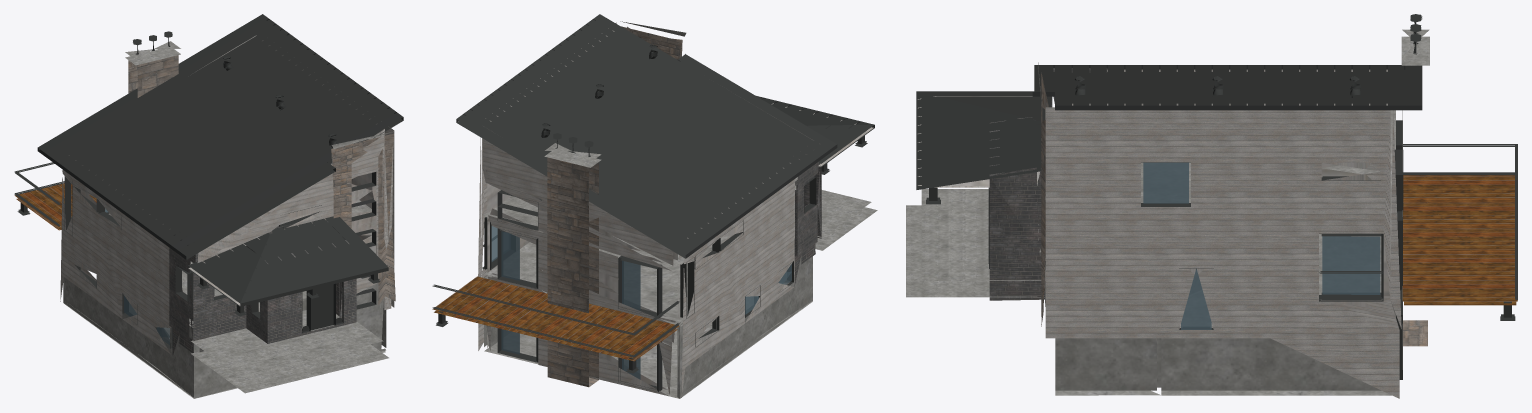
File: house-real-3s.glb
3 renders of one model, left to right at view 1: azimuth 30°, elevation 25°; view 2: azimuth 150°, elevation 25°; view 3: azimuth 270°, elevation 25°, orthographic. The views are drawn at different scales.
Visible parts, largest first — view 1: Object_7, Object_6, Object_3, Object_8, Object_5, Object_2; view 2: Object_7, Object_6, Object_3, Object_8, Object_2, Object_5, Object_4; view 3: Object_6, Object_7, Object_3, Object_8, Object_4, Object_5, Object_2.
Part boxes in pixels (x1,y1,x2,y2): Object_7: (37,14,403,306); Object_6: (60,35,394,354); Object_3: (62,41,393,398); Object_8: (14,164,356,355); Object_5: (14,31,380,348); Object_2: (128,55,395,305); Object_7: (456,14,874,258); Object_6: (478,22,873,397); Object_3: (484,21,877,398); Object_8: (432,143,821,361); Object_2: (547,26,682,387); Object_5: (432,44,867,392); Object_4: (491,226,791,379); Object_6: (917,69,1402,398); Object_7: (916,65,1422,189); Object_3: (906,29,1429,395); Object_8: (989,68,1517,305); Object_4: (1143,162,1380,329); Object_5: (926,14,1517,379); Object_2: (1041,72,1427,346).
Size of the model in its own units: 1045 by 1053 by 1886.
Materials: 7 (7 with a texture image).
